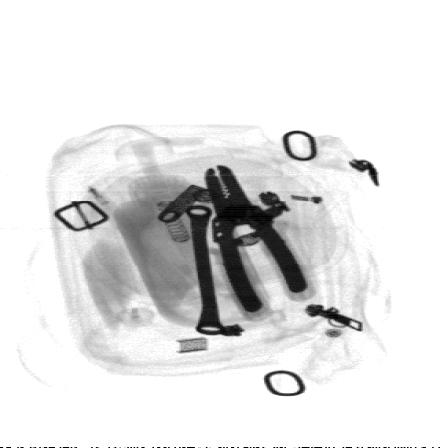Pliers: (202, 163, 311, 316)
Wrench: (185, 206, 229, 337)
